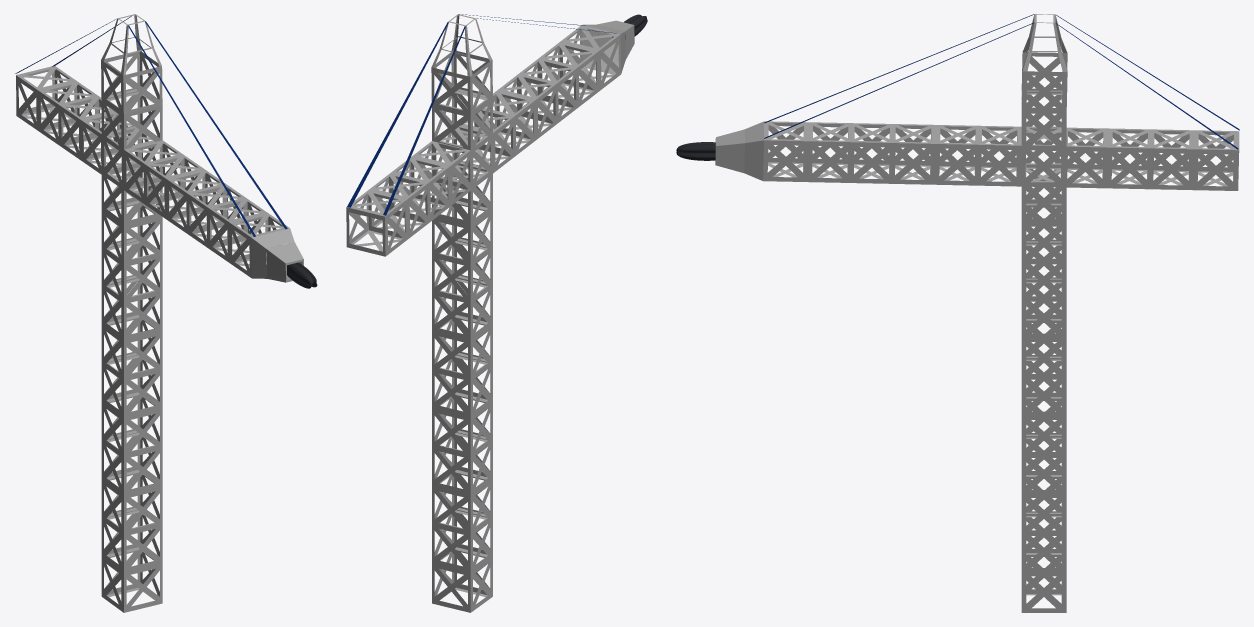
File: Crane.fbx
The picture shows the model from 3 angles, left to right: view 1: azimuth 30°, elevation 25°; view 2: azimuth 150°, elevation 25°; view 3: azimuth 270°, elevation 25°; orthographic projection.
Visible parts, largest first — view 1: pCube42, pCube29, pCube14, pCube21, pCube19, pCube18, pCube26, pCube22, pCube15, pCube20, pCube23, pCube25 (+13 smaller); view 2: pCube42, pCube29, pCube35, pCube14, pCube26, pCube20, pCube15, pCube23, pCube19, pCube18, pCube21, pCube22 (+12 smaller); view 3: pCube29, pCube42, pCube35, pCube39, pCube28, pCube38, pCube34, pCube33, pCube36, pCube32, pCube27, pCube37 (+12 smaller).
Boxes of the visible parts, x1,y1,x2,y2 form: pCube42: (15,14,287,236); pCube29: (229,213,303,282); pCube14: (101,547,162,612); pCube21: (101,276,162,340); pCube19: (101,430,162,495); pCube18: (101,470,162,535); pCube26: (101,238,162,303); pCube22: (101,353,162,417); pCube15: (101,508,162,572); pCube20: (101,315,162,380); pCube23: (101,392,162,457); pCube25: (101,200,162,265); pCube42: (347,14,616,215); pCube29: (559,20,634,90); pCube35: (346,190,407,256); pCube14: (432,547,492,612); pCube26: (432,238,492,303); pCube20: (432,315,492,380); pCube15: (432,508,492,572); pCube23: (432,392,492,457); pCube19: (432,430,492,494); pCube18: (432,470,492,534); pCube21: (432,275,492,340); pCube22: (432,353,492,417); pCube29: (715,121,809,181); pCube42: (764,14,1239,149); pCube35: (1193,130,1239,190); pCube39: (976,125,1022,186); pCube28: (807,122,853,182); pCube38: (934,125,980,185); pCube34: (1148,129,1194,189); pCube33: (1107,128,1152,189); pCube36: (890,124,936,184); pCube32: (1063,127,1108,188); pCube27: (849,123,895,183); pCube37: (1020,126,1066,187).
Bounding box in the file's own units: 1.03 × 14.32 × 12.49.
